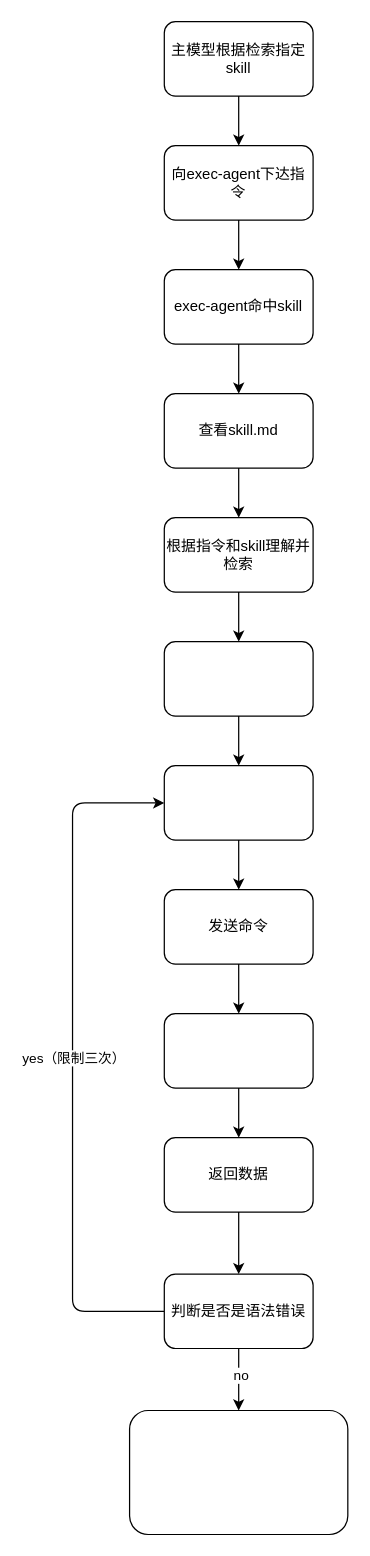
Some shapes in this 370 by 1556 pixel diagram are drawn without their labels. The centre of each missing label's shape, as x and y in pixels:
查看用法: the point at 238,802
获取相似条例: the point at 238,678
解释器执行: the point at 238,1050
返回二层库并说明错误情况让主agent调整说明再次发起声明，如果3次错误则向用户说明情况: the point at 238,1471
